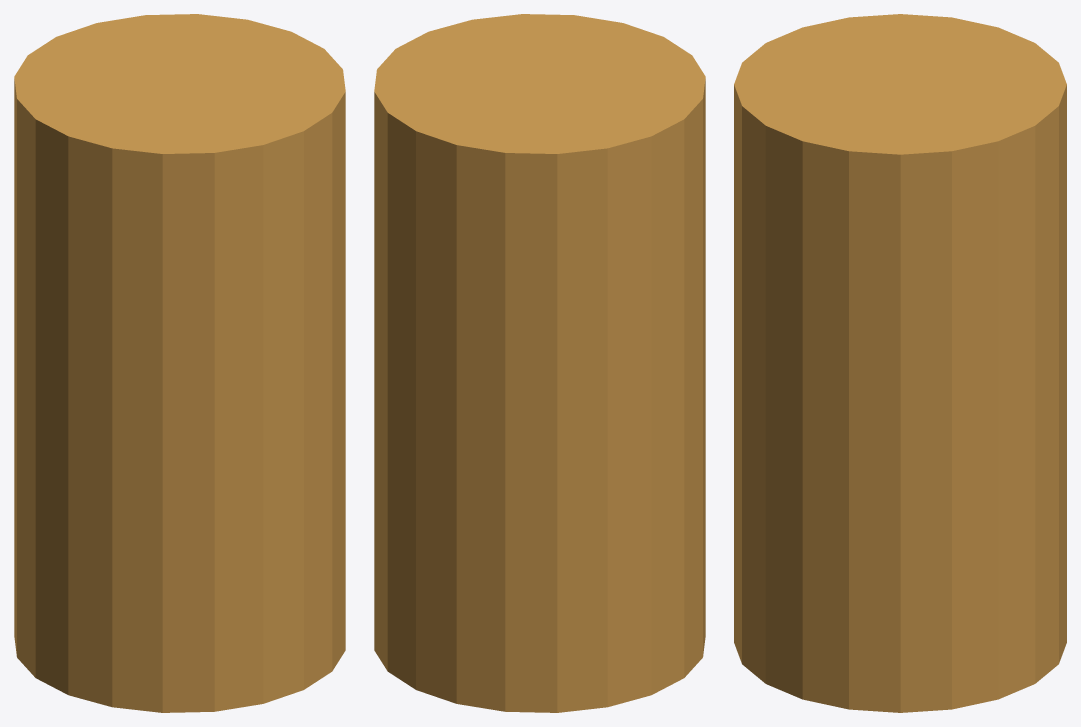
The model's file is character.glb.
The picture shows the model from 3 angles, left to right: view 1: azimuth 30°, elevation 25°; view 2: azimuth 150°, elevation 25°; view 3: azimuth 270°, elevation 25°; orthographic projection.
Parts seen in each view (by area): view 1: Mesh_Mesh_head_geo.001_lambert2SG.001; view 2: Mesh_Mesh_head_geo.001_lambert2SG.001; view 3: Mesh_Mesh_head_geo.001_lambert2SG.001.
Part boxes in pixels (x1,y1,x2,y2): Mesh_Mesh_head_geo.001_lambert2SG.001: [14, 14, 345, 712]; Mesh_Mesh_head_geo.001_lambert2SG.001: [374, 14, 705, 712]; Mesh_Mesh_head_geo.001_lambert2SG.001: [734, 14, 1066, 712].
Size of the model in its own units: 20 by 37 by 20.
